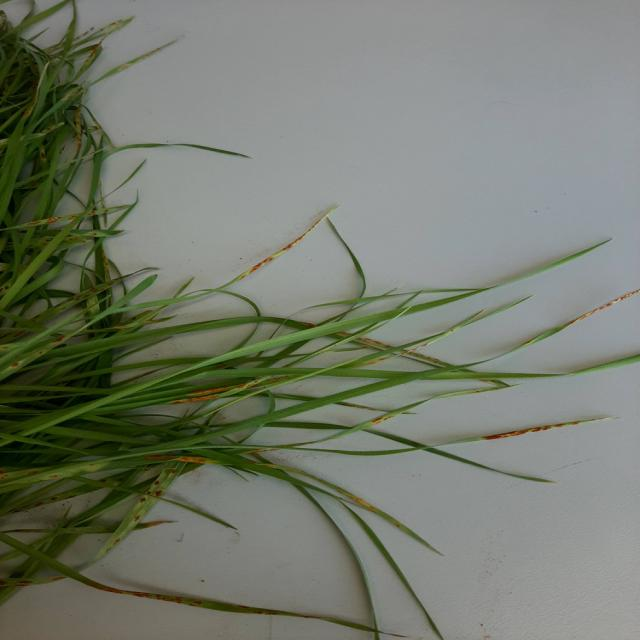wheat-stemrust: (148, 376, 269, 406), (346, 333, 452, 367), (141, 454, 231, 465), (365, 415, 394, 428)
